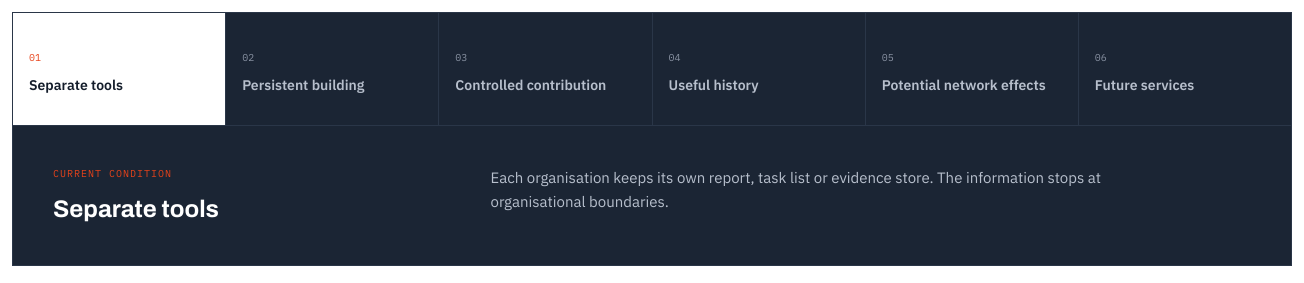
Test: MarketRoadmap › shows all six steps and preserves future-state qualifications
Click the button "05 Potential network effects": (972, 69) [866, 13, 1078, 125]
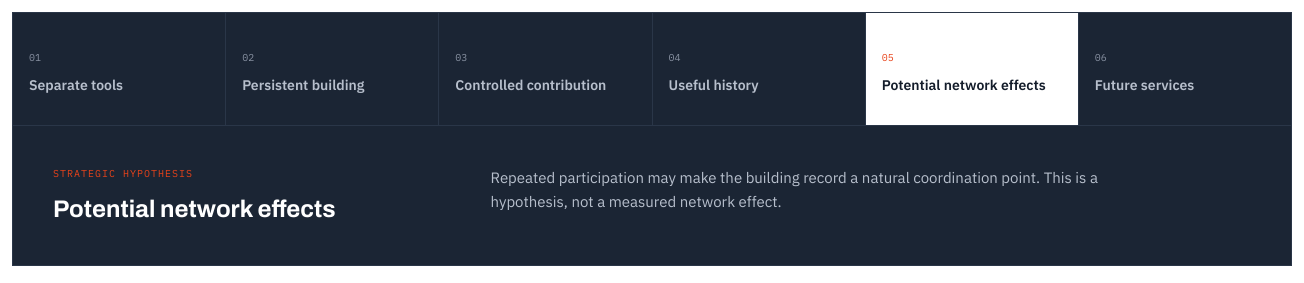
Now the text "Strategic hypothesis" is shown, box [53, 167, 193, 180]
Now the text "not a measured network effect" is shown, box [490, 168, 1098, 211]
